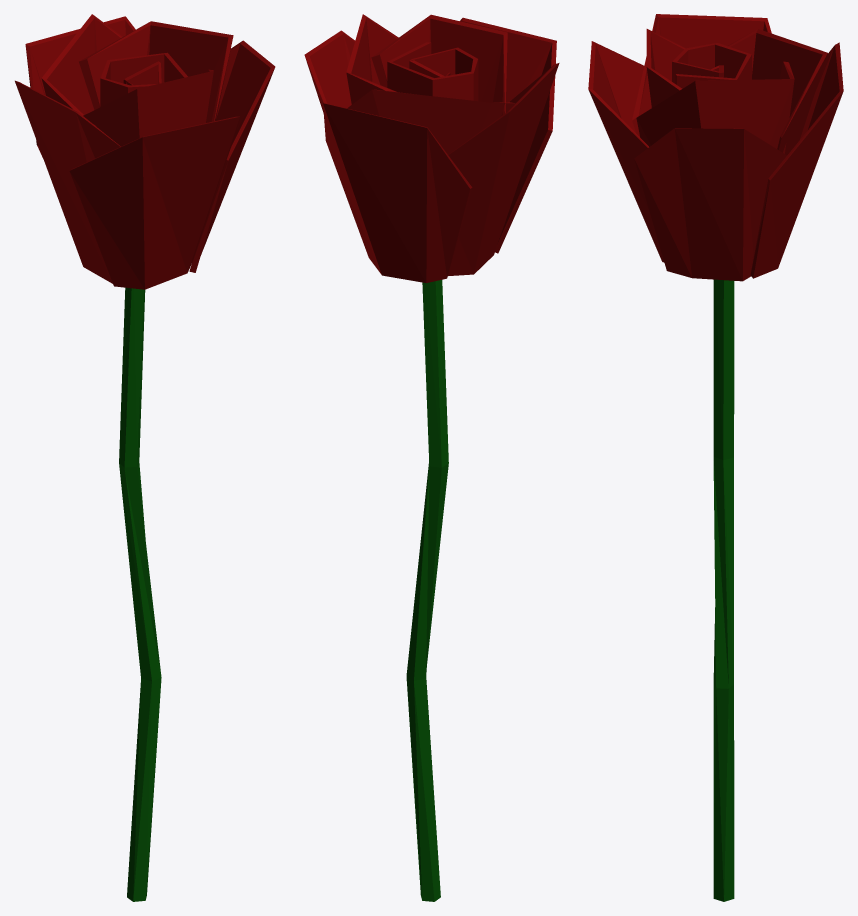
The model's file is rose.obj.
3 renders of one model, left to right at view 1: azimuth 30°, elevation 25°; view 2: azimuth 150°, elevation 25°; view 3: azimuth 270°, elevation 25°, orthographic.
Size of the model in its own units: 0.417 by 1.56 by 0.4228.
